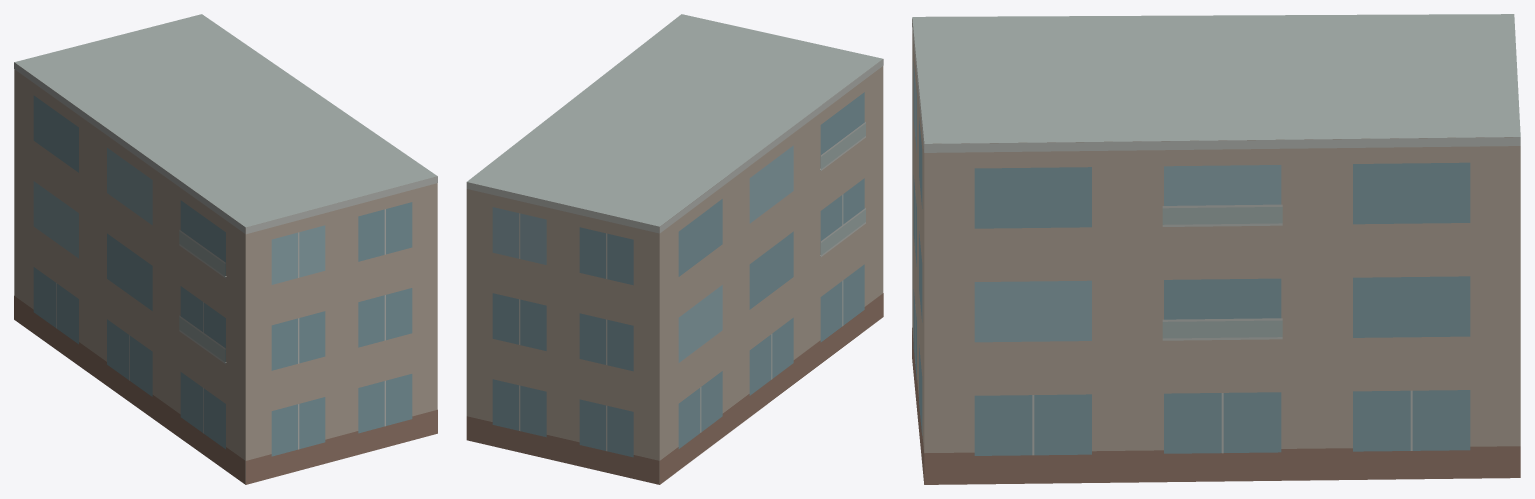
File: survey-upis-32670372.glb
3 renders of one model, left to right at view 1: azimuth 30°, elevation 25°; view 2: azimuth 150°, elevation 25°; view 3: azimuth 270°, elevation 25°, orthographic. The views are drawn at different scales.
Parts seen in each view (by area): view 1: survey-upis-32670372.tmp; view 2: survey-upis-32670372.tmp; view 3: survey-upis-32670372.tmp.
Boxes of the visible parts, x1,y1,x2,y2 form: survey-upis-32670372.tmp: [14, 14, 437, 484]; survey-upis-32670372.tmp: [466, 14, 883, 484]; survey-upis-32670372.tmp: [912, 14, 1520, 484].
Bounding box in the file's own units: 7.48 × 9.15 × 14.81.
